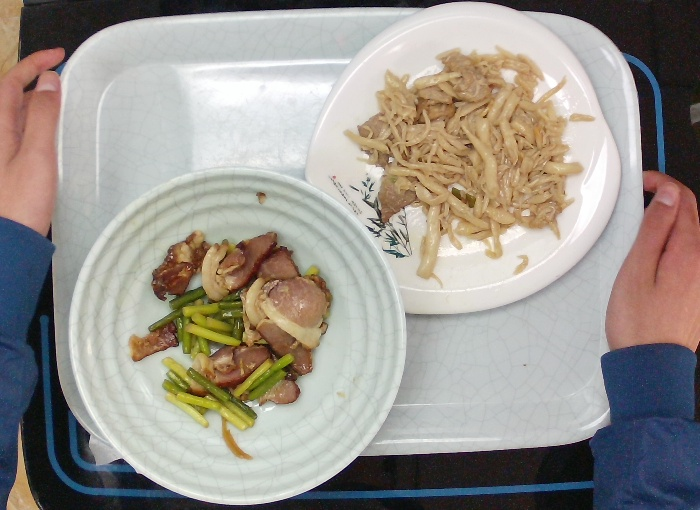JYsf-Da_Tang_Wan: (66, 165, 408, 508)
JYsf-Mian_Pan: (302, 1, 623, 316)
